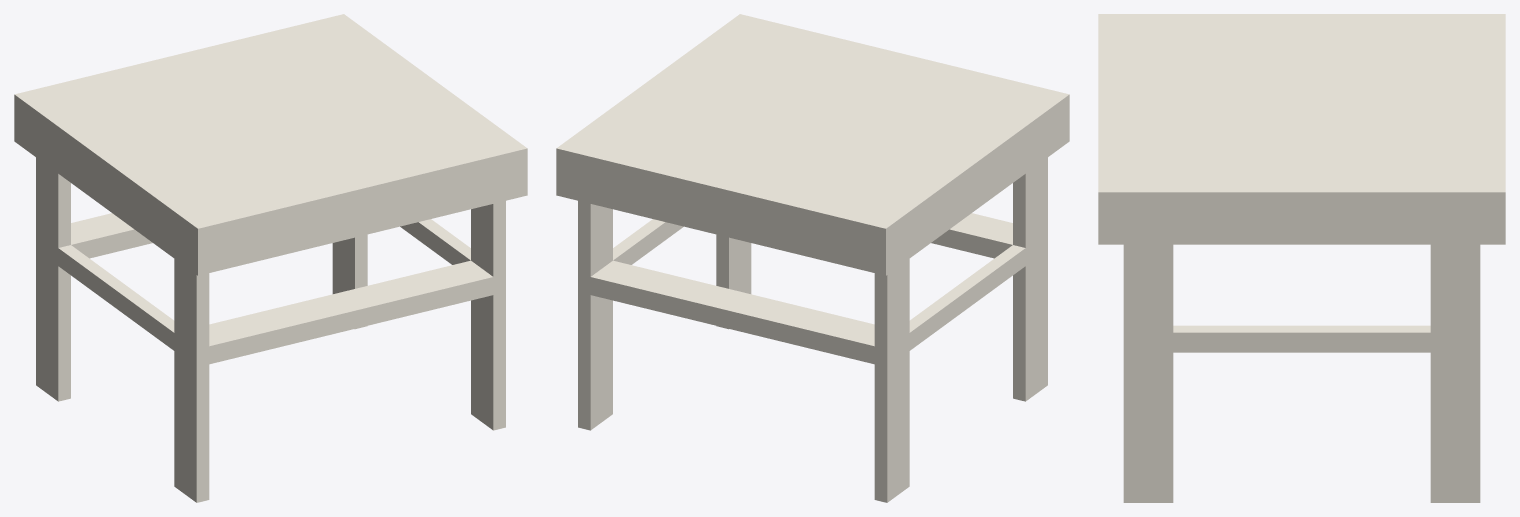
The model's file is side_table_01.FBX.
The picture shows the model from 3 angles, left to right: view 1: azimuth 30°, elevation 25°; view 2: azimuth 150°, elevation 25°; view 3: azimuth 270°, elevation 25°; orthographic projection. The views are drawn at different scales.
Parts seen in each view (by area): view 1: Box057; view 2: Box057; view 3: Box057.
Part boxes in pixels (left/top/right/bottom): Box057: left=14, top=14, right=527, bottom=502; Box057: left=556, top=14, right=1069, bottom=502; Box057: left=1098, top=14, right=1505, bottom=502.
Bounding box in the file's own units: 89.15 × 73.66 × 86.03.
